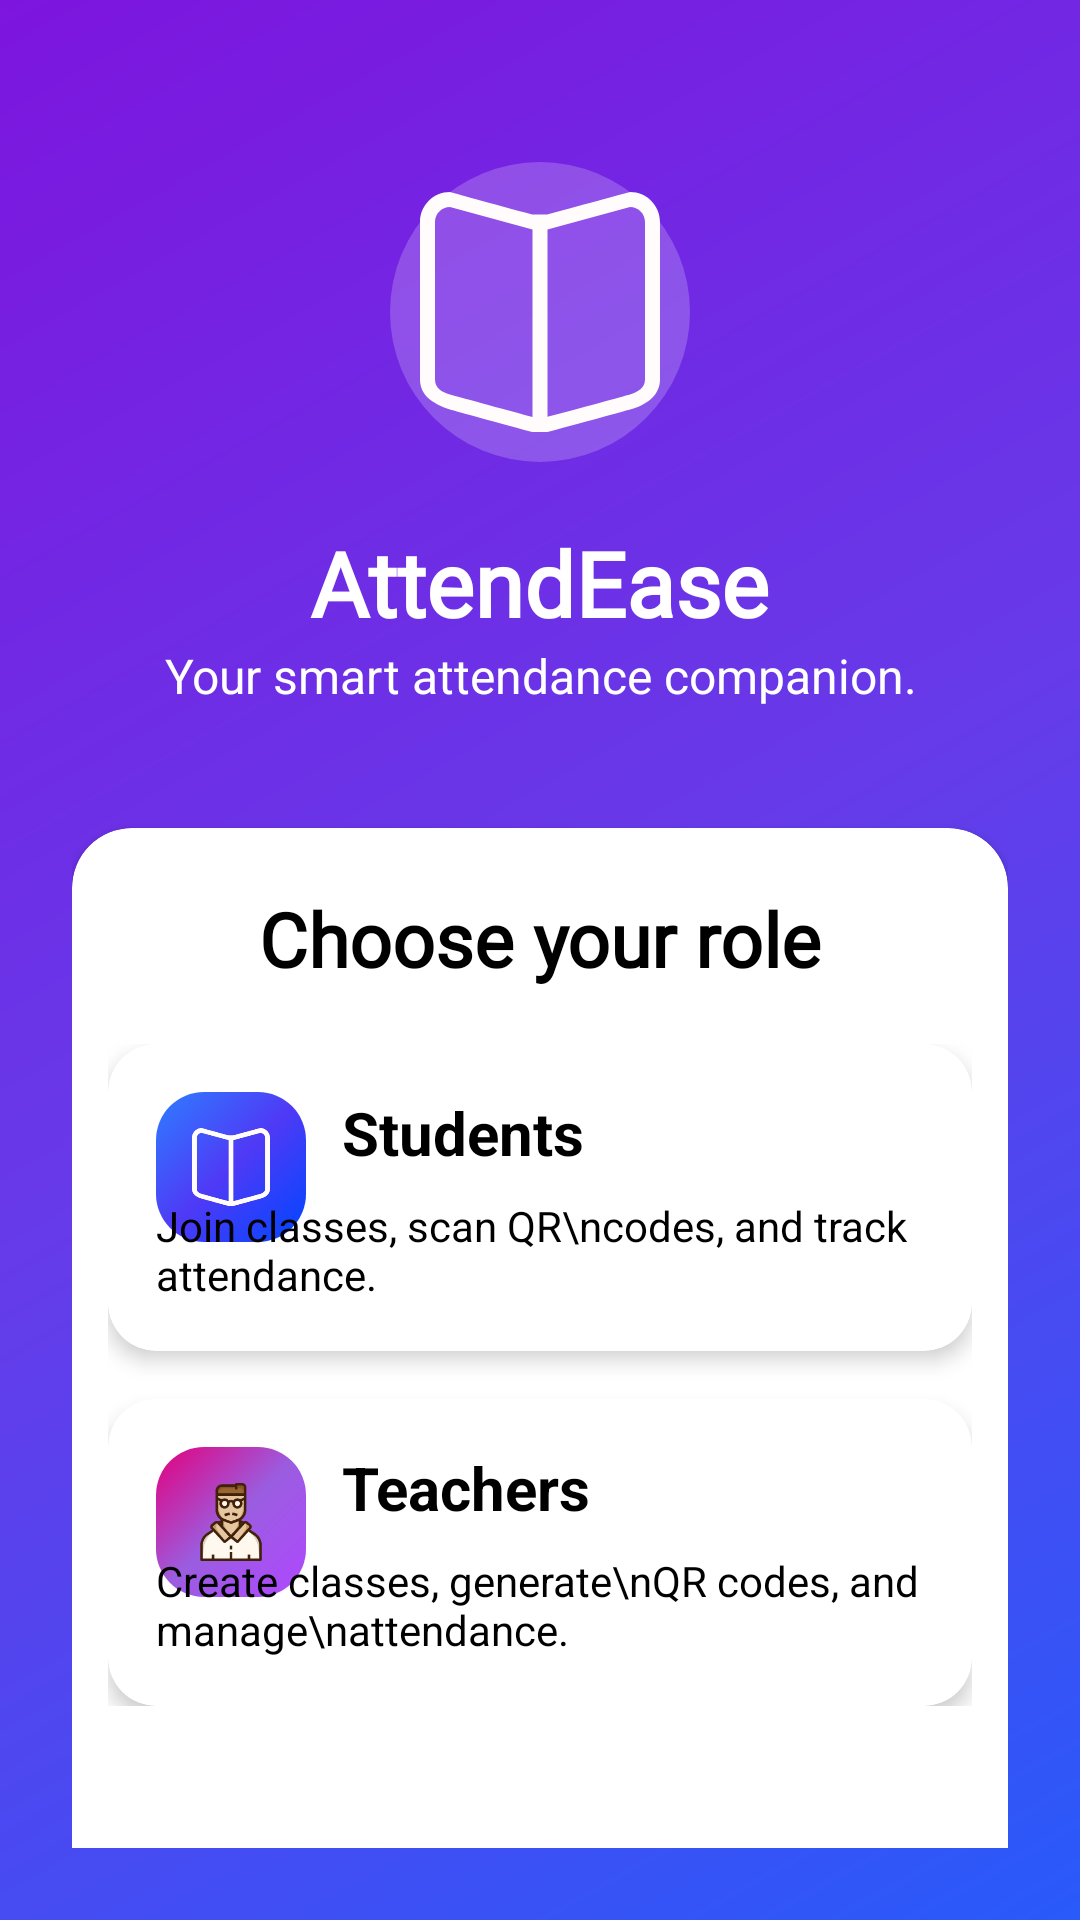

Locate icon controls on the screen. Image size 1080w x 1920h, boxes as (x1, y1, x2, y2).
book: (390, 162, 690, 462), (156, 1092, 306, 1242)
